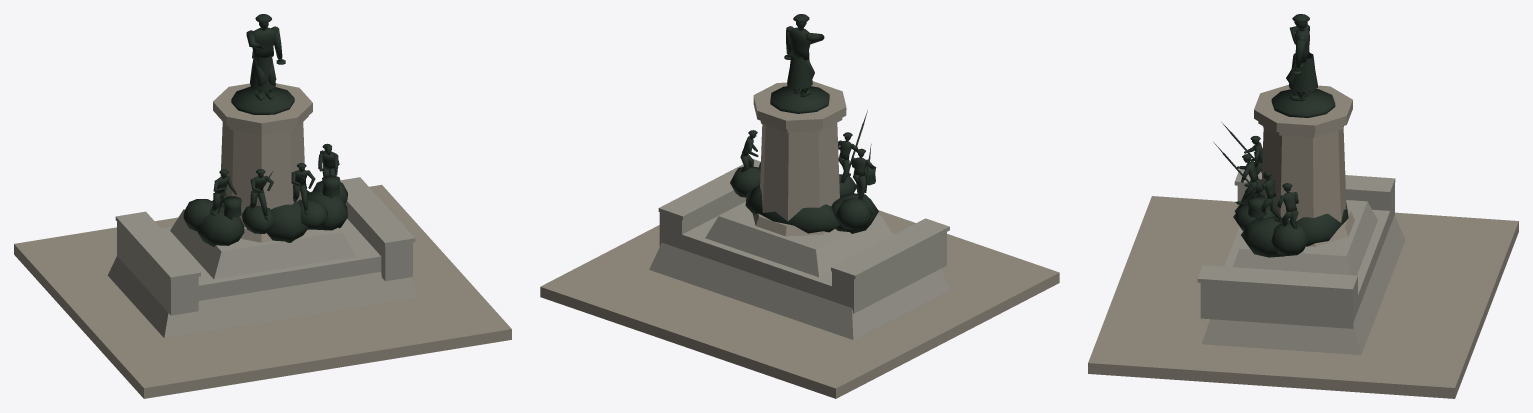
The model's file is totleben.lod.glb.
The picture shows the model from 3 angles, left to right: view 1: azimuth 30°, elevation 25°; view 2: azimuth 150°, elevation 25°; view 3: azimuth 270°, elevation 25°; orthographic projection. The views are drawn at different scales.
Visible parts, largest first — view 1: totleben_stone, totleben_wall2, totleben_wall3; view 2: totleben_stone, totleben_wall2, totleben_wall3; view 3: totleben_stone, totleben_wall2, totleben_wall3.
Boxes of the visible parts, box(x1,y1,x2,y2) form: totleben_stone: box(14, 83, 511, 398); totleben_wall2: box(107, 177, 418, 338); totleben_wall3: box(183, 14, 347, 246); totleben_stone: box(540, 81, 1059, 398); totleben_wall2: box(649, 159, 950, 339); totleben_wall3: box(730, 14, 878, 233); totleben_stone: box(1088, 84, 1518, 398); totleben_wall2: box(1197, 169, 1405, 354); totleben_wall3: box(1213, 14, 1348, 257).
Size of the model in its own units: 15.89 by 11.09 by 15.07.
